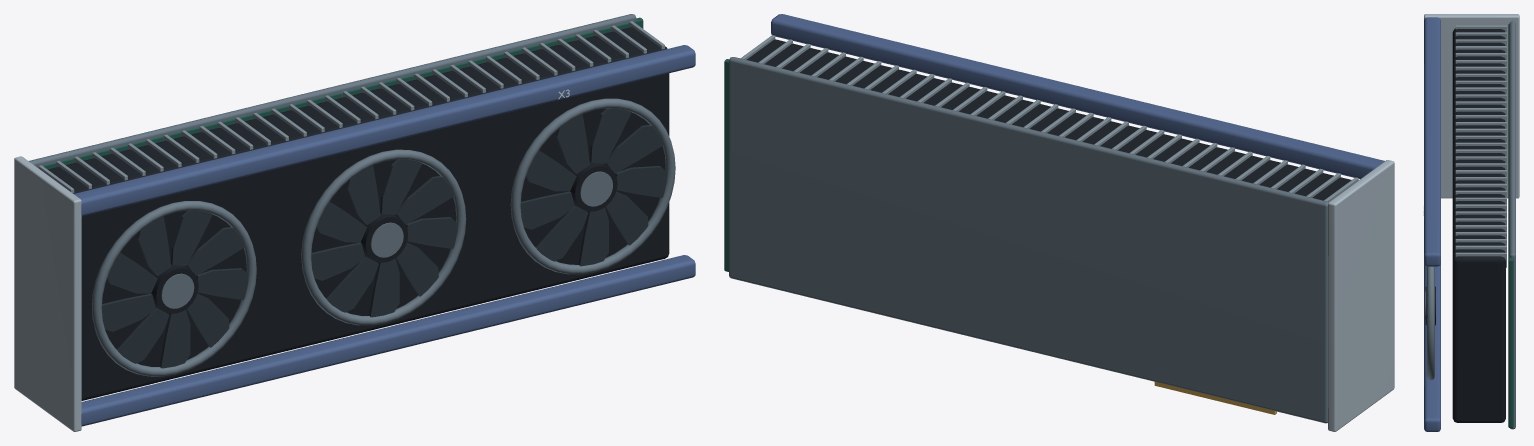
3 renders of one model, left to right at view 1: azimuth 30°, elevation 25°; view 2: azimuth 150°, elevation 25°; view 3: azimuth 270°, elevation 25°, orthographic. The views are drawn at different scales.
Visible parts, largest first — view 1: x3 housing; view 2: x3 housing; view 3: x3 housing.
Part boxes in pixels (box(x1,y1,x2,y2)): x3 housing: box(14, 14, 695, 431); x3 housing: box(724, 14, 1394, 431); x3 housing: box(1423, 14, 1519, 431).
Size of the model in its own units: 332 by 118 by 56.31.
